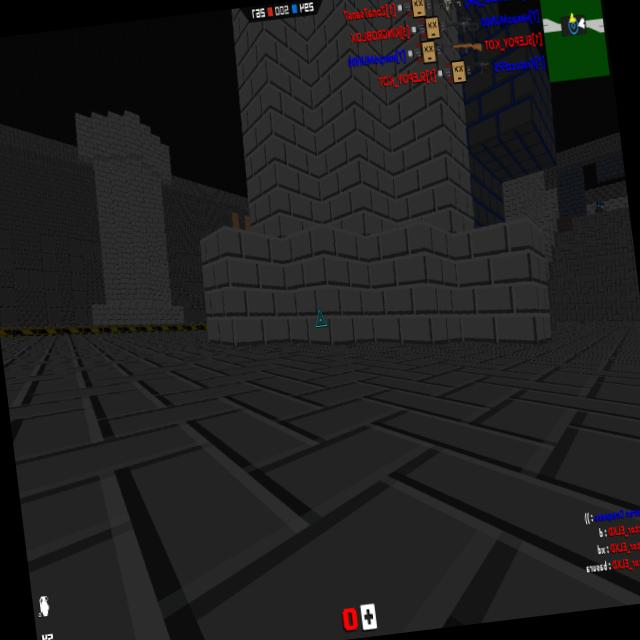enemy: (592, 197, 605, 214)
